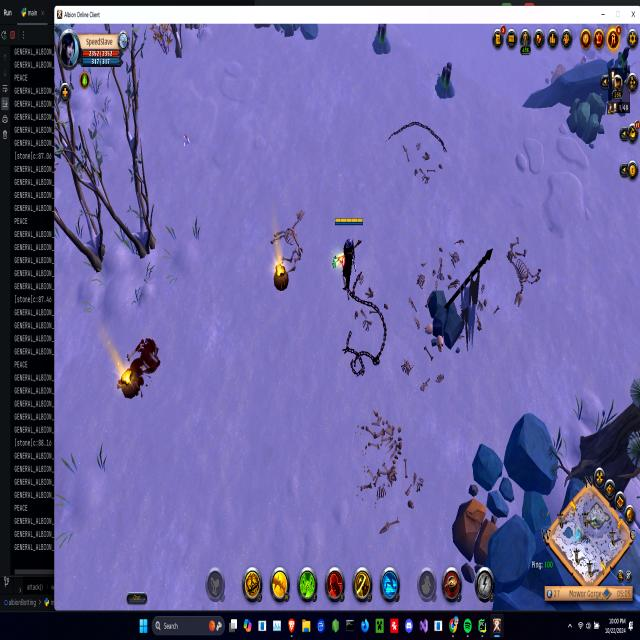player: (431, 58, 458, 104), (368, 24, 395, 58)
red: (330, 212, 366, 309)
tree: (452, 494, 492, 564), (564, 90, 605, 149)
